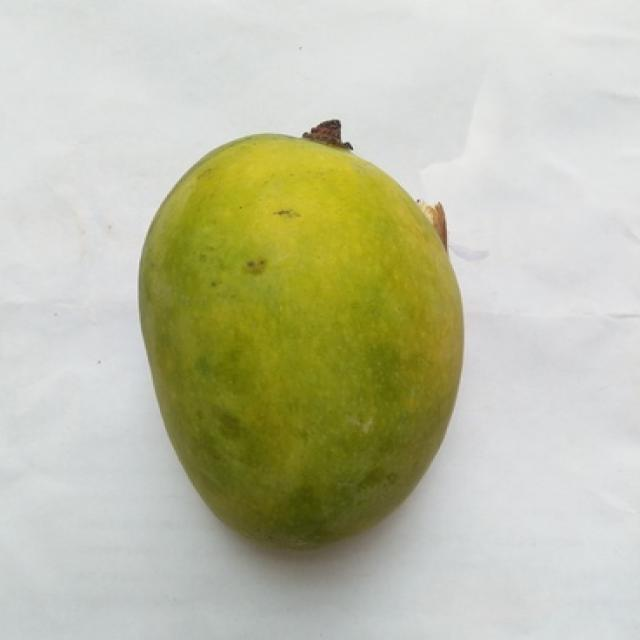Mango: (139, 135, 461, 546)
